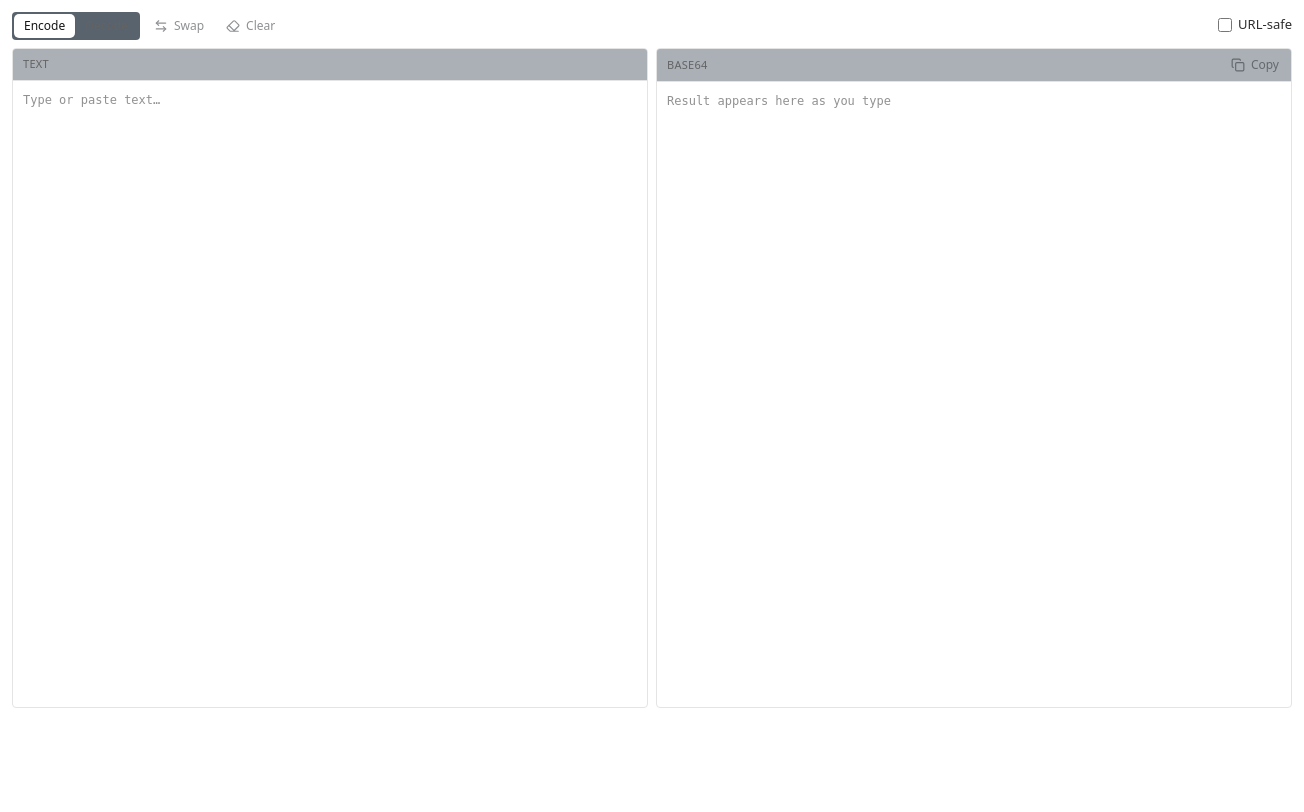
Base64 › encodes as you type, including unicode
The width and height of the screenshot is (1304, 812).
In the text box named "Text to encode": (330, 394) [13,81,647,707], type "héllo €"
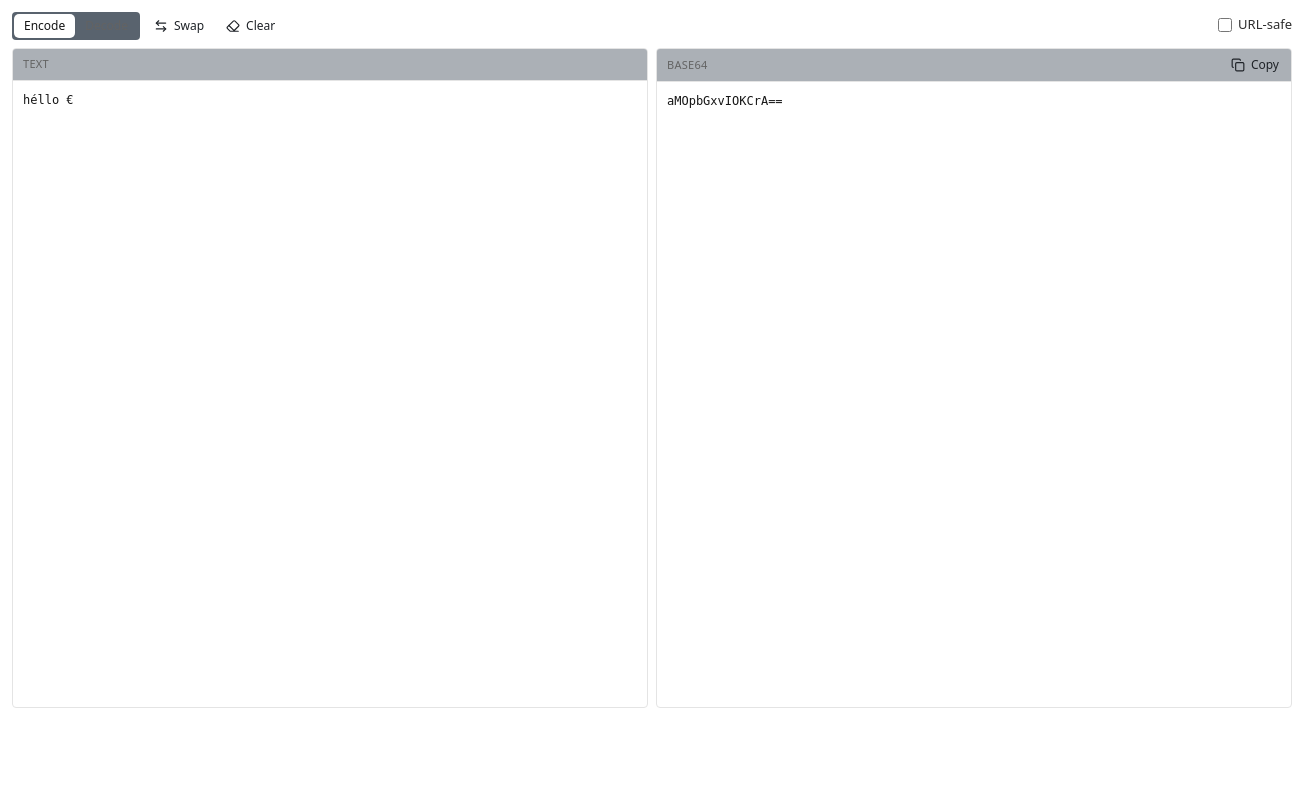
Now the text box named "Result" holds "aMOpbGxvIOKCrA==", box [657,82,1291,707]
